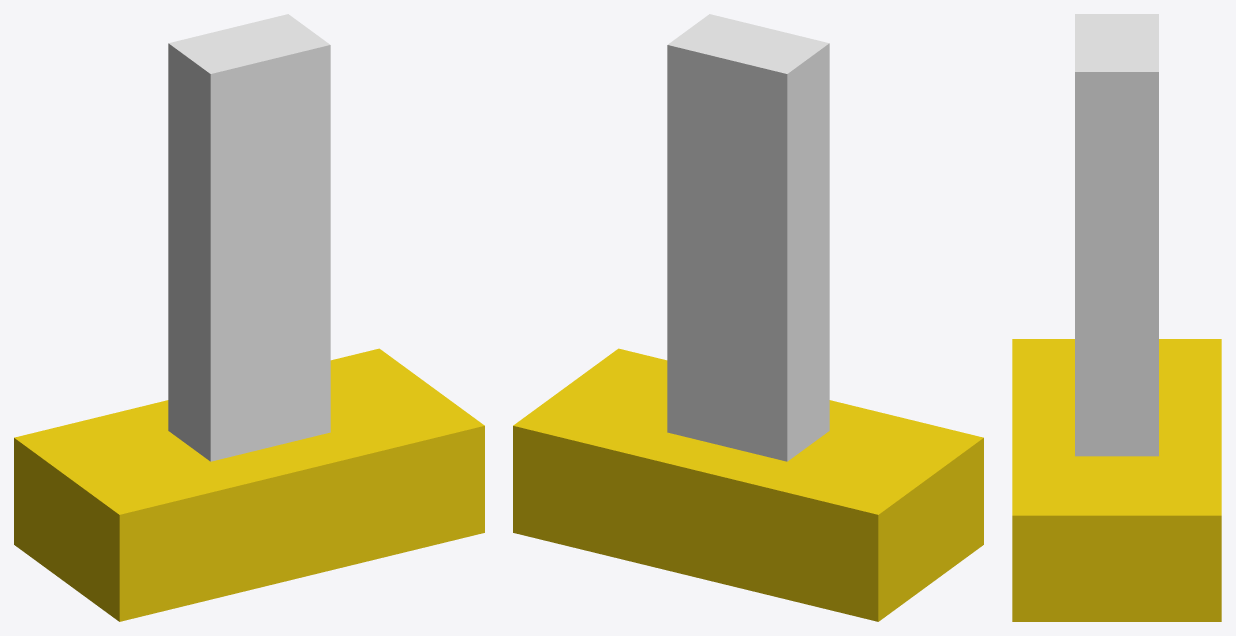
The model's file is Weight.dae.
3 renders of one model, left to right at view 1: azimuth 30°, elevation 25°; view 2: azimuth 150°, elevation 25°; view 3: azimuth 270°, elevation 25°, orthographic.
Visible parts, largest first — view 1: Weight; view 2: Weight; view 3: Weight.
Boxes of the visible parts, <box> form: Weight: <box>14,14,484,621</box>; Weight: <box>513,14,983,621</box>; Weight: <box>1012,14,1221,621</box>.
Size of the model in its own units: 0.0267 by 0.0134 by 0.0346.
